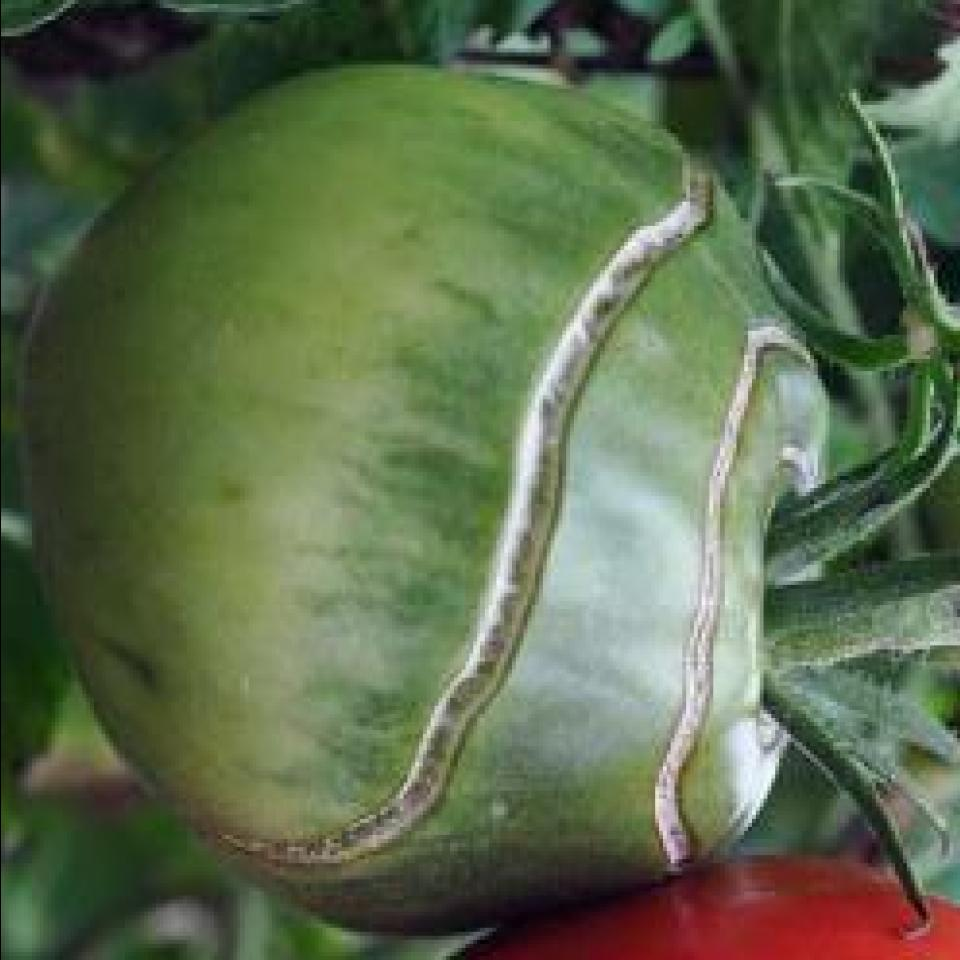Cracking: (164, 138, 720, 886), (655, 288, 832, 911)
